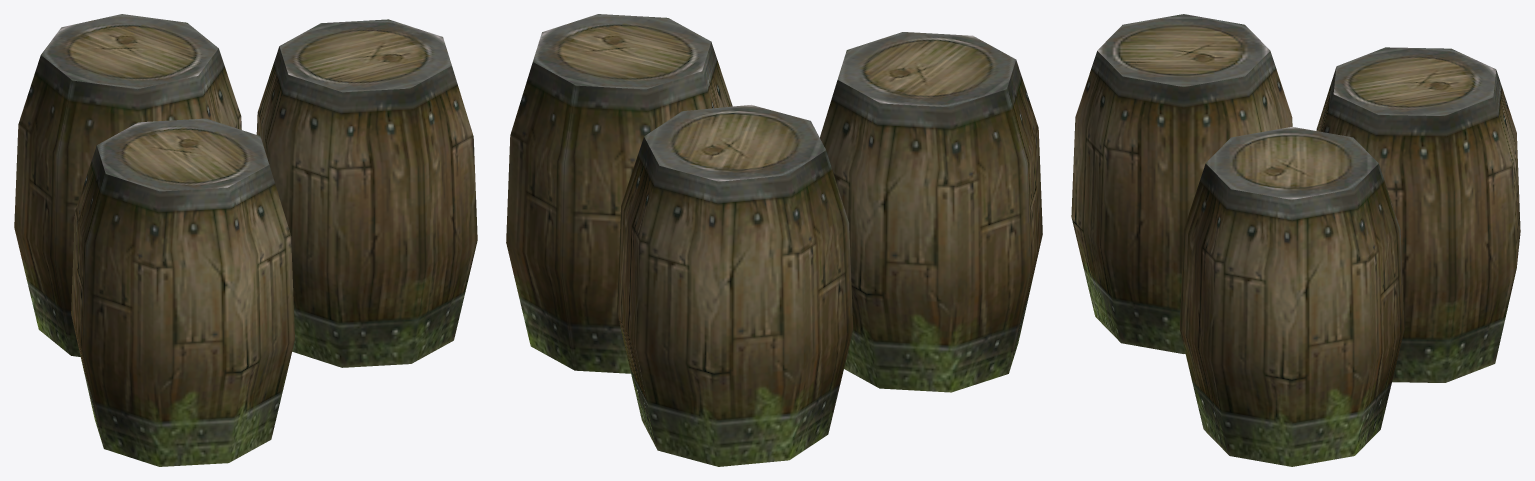
The model's file is wlf_mutong01_w.FBX.
3 views of the same model, side by side, from view 1: azimuth 30°, elevation 25°; view 2: azimuth 150°, elevation 25°; view 3: azimuth 270°, elevation 25° (orthographic). The views are drawn at different scales.
Parts seen in each view (by area): view 1: wlf_mutong01_w; view 2: wlf_mutong01_w; view 3: wlf_mutong01_w.
Boxes of the visible parts, <box> form: wlf_mutong01_w: <box>14,14,477,466</box>; wlf_mutong01_w: <box>506,14,1042,466</box>; wlf_mutong01_w: <box>1071,14,1520,466</box>.
Size of the model in its own units: 18.72 by 11.18 by 17.1.
